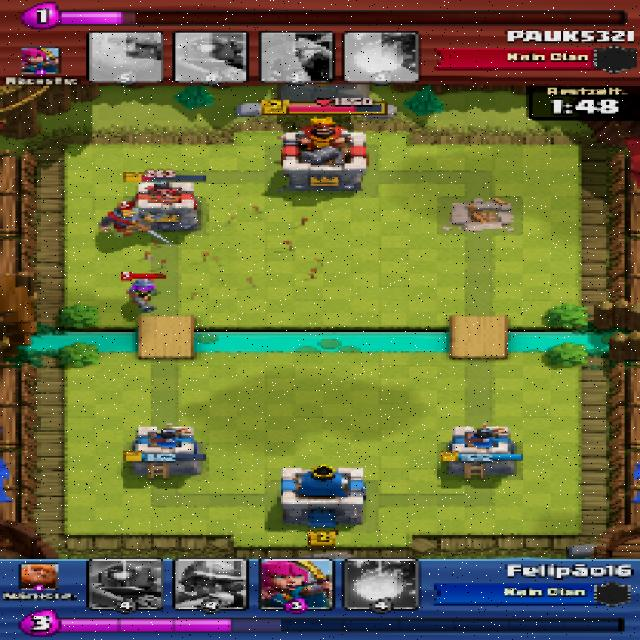Enemy-Arrow: (143, 205, 328, 288)
Enemy-Knight: (92, 206, 154, 238)
Enemy-Musketeer: (122, 278, 163, 312)
